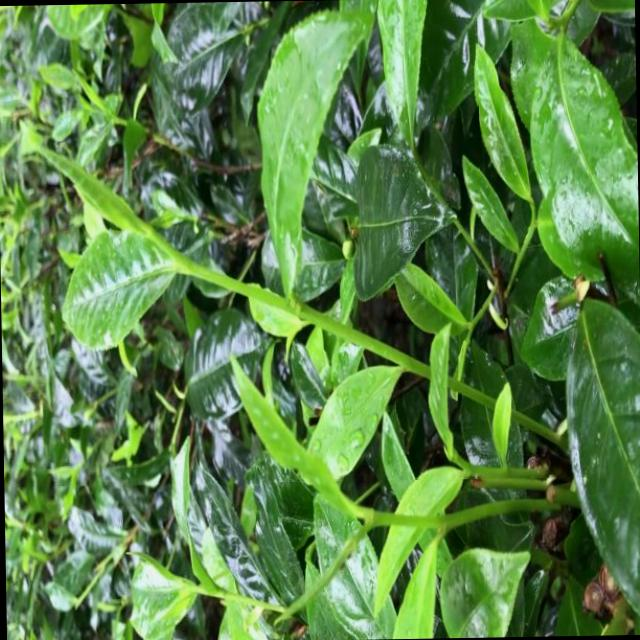Stem: (179, 257, 196, 275), (367, 511, 386, 526)
